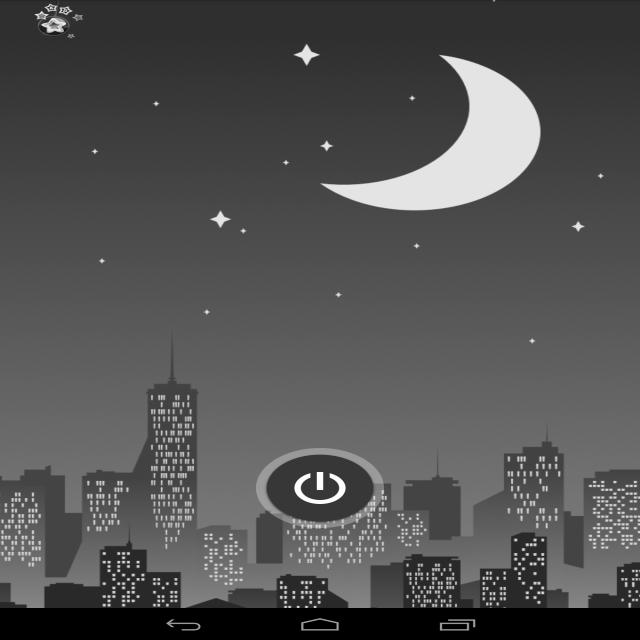Button: (260, 451, 380, 525)
ImageButton: (9, 0, 68, 43), (513, 5, 564, 38), (582, 73, 619, 96)
ImageView: (0, 0, 640, 608), (9, 464, 630, 640), (256, 448, 384, 528), (34, 0, 83, 39), (27, 110, 78, 142), (95, 110, 146, 142), (163, 110, 214, 142), (300, 110, 351, 142), (368, 110, 419, 142), (232, 110, 282, 142), (27, 200, 52, 216), (27, 294, 52, 310), (27, 324, 52, 340), (27, 355, 52, 371), (12, 466, 26, 474)
SeekBar: (57, 200, 626, 216), (57, 294, 626, 310)
Switch: (573, 12, 623, 30), (564, 324, 614, 342), (564, 416, 614, 434)
TextView: (70, 326, 564, 339), (27, 66, 168, 96), (177, 70, 274, 99), (69, 357, 270, 369), (72, 12, 184, 30), (101, 157, 164, 186), (26, 421, 146, 436), (154, 411, 217, 439), (27, 262, 115, 278), (124, 252, 168, 281), (27, 169, 92, 183)
